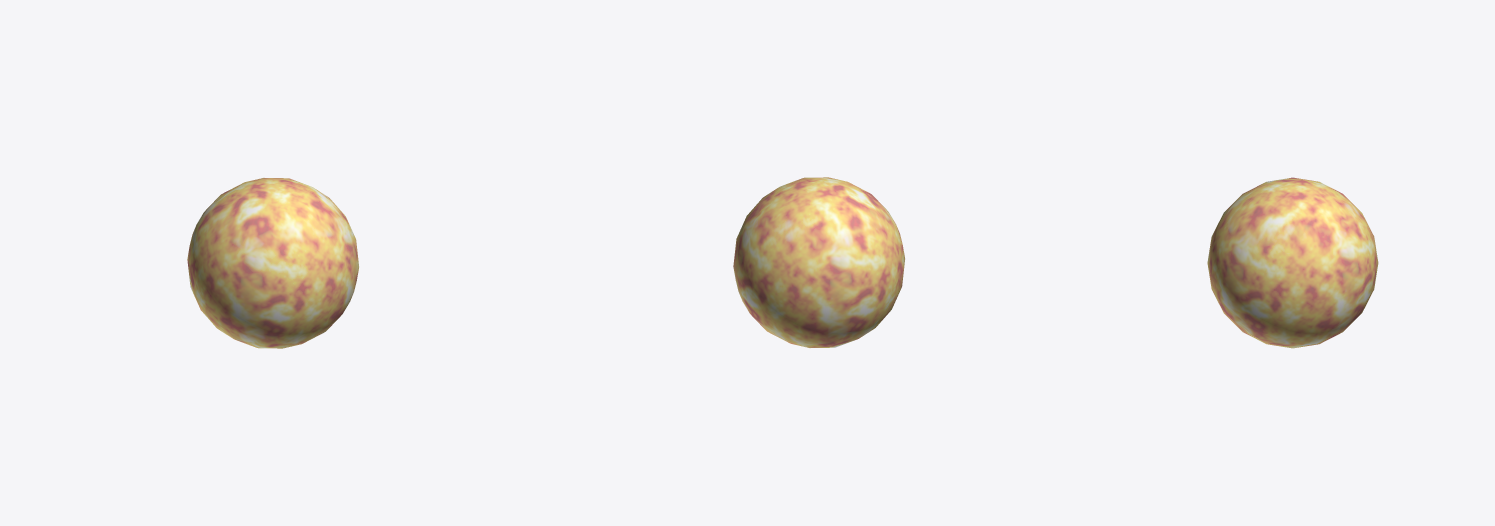
File: sun (1).fbx
The picture shows the model from 3 angles, left to right: view 1: azimuth 30°, elevation 25°; view 2: azimuth 150°, elevation 25°; view 3: azimuth 270°, elevation 25°; orthographic projection.
Visible parts, largest first — view 1: core; view 2: core; view 3: core.
Part boxes in pixels (x1=…): core: x1=187, y1=178, x2=358, y2=348; core: x1=733, y1=177, x2=904, y2=347; core: x1=1207, y1=177, x2=1378, y2=348.
Size of the model in its own units: 4.38 by 4.38 by 4.38.
Materials: 1 (1 with a texture image).
